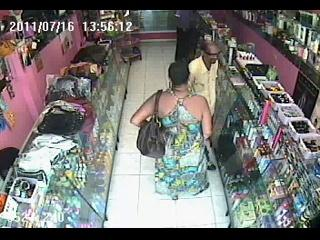Normal: (129, 60, 213, 200), (188, 40, 222, 122), (136, 90, 166, 158)
